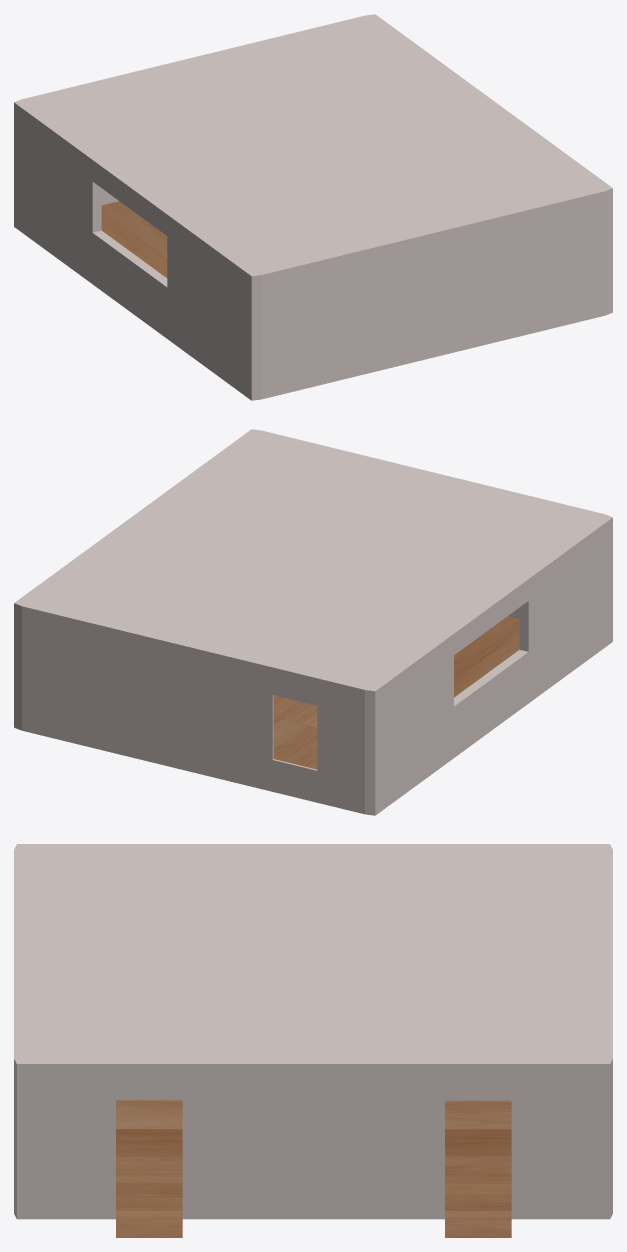
The model's file is Studio.fbx.
3 views of the same model, one above another, from view 1: azimuth 30°, elevation 25°; view 2: azimuth 150°, elevation 25°; view 3: azimuth 270°, elevation 25° (orthographic). The views are drawn at different scales.
Visible parts, largest first — view 1: AmbientePareti.001; view 2: AmbientePareti.001; view 3: AmbientePareti.001.
Part boxes in pixels (x1,y1,x2,y2): AmbientePareti.001: (14,14,612,400); AmbientePareti.001: (14,429,612,815); AmbientePareti.001: (14,844,612,1237).
Bounding box in the file's own units: 857 × 260 × 909.
